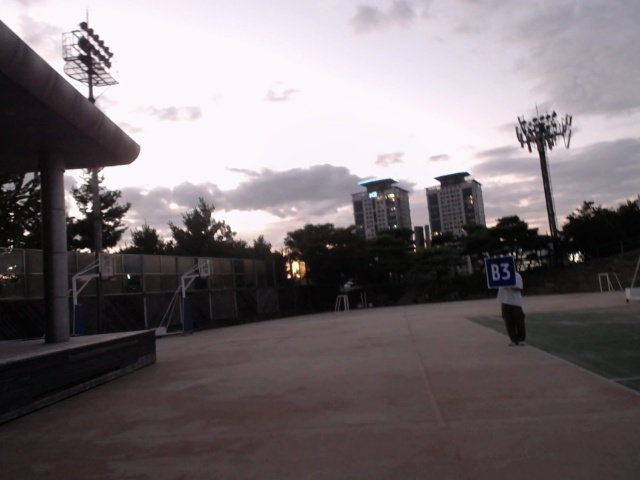delivery_b3: (484, 256, 518, 289)
